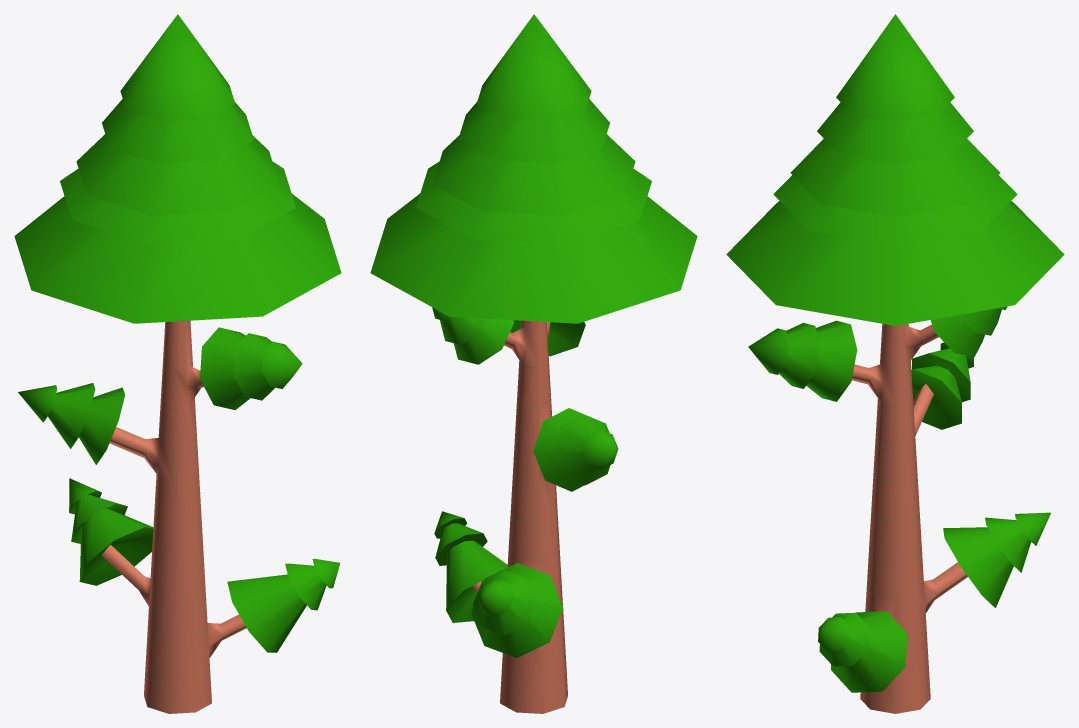
Rendered from tree1.glb.
3 renders of one model, left to right at view 1: azimuth 30°, elevation 25°; view 2: azimuth 150°, elevation 25°; view 3: azimuth 270°, elevation 25°, orthographic.
Parts seen in each view (by area): view 1: Cylinder; view 2: Cylinder; view 3: Cylinder.
Part boxes in pixels (left/top/right/bottom): Cylinder: left=14, top=14, right=341, bottom=713; Cylinder: left=370, top=14, right=697, bottom=713; Cylinder: left=726, top=14, right=1064, bottom=713.
Size of the model in its own units: 1.79 by 4 by 1.79.
Materials: 1 (1 with a texture image).
